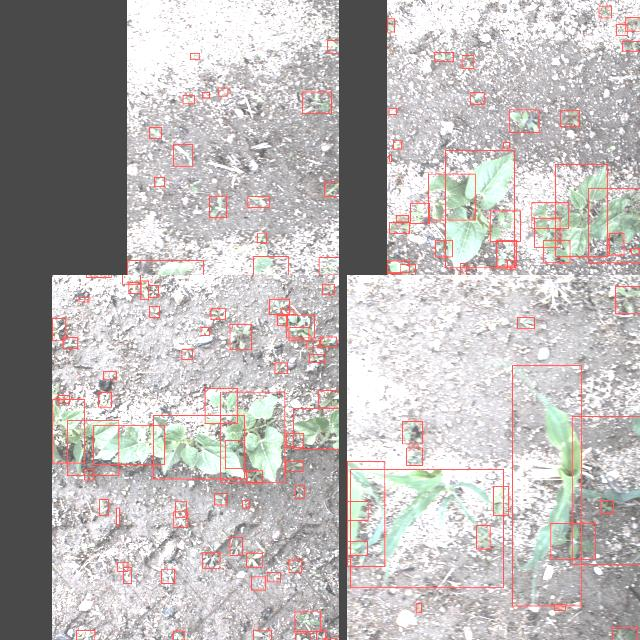crop: (350, 469, 502, 587), (512, 365, 582, 605), (571, 416, 640, 564), (444, 150, 514, 266), (152, 414, 244, 478), (220, 391, 284, 481), (554, 164, 608, 256), (346, 460, 384, 566), (587, 188, 640, 262), (92, 424, 164, 464), (66, 420, 118, 474), (428, 173, 474, 219), (51, 398, 83, 462), (292, 407, 339, 448), (126, 259, 202, 275), (532, 202, 568, 228), (252, 255, 287, 275)
weed: (550, 523, 596, 559), (204, 388, 236, 422), (489, 210, 519, 240), (533, 218, 559, 246), (508, 108, 538, 132), (615, 285, 640, 313), (286, 314, 314, 338), (301, 91, 331, 113), (543, 240, 569, 262), (229, 323, 251, 349), (224, 440, 243, 468), (496, 240, 516, 266), (294, 611, 320, 631), (401, 421, 421, 444), (492, 486, 508, 514), (172, 143, 192, 165), (347, 500, 368, 520), (409, 202, 429, 222), (208, 195, 226, 217), (318, 256, 339, 274), (318, 390, 339, 407), (608, 232, 624, 254), (476, 524, 490, 548), (611, 627, 636, 640), (269, 298, 289, 314), (51, 317, 65, 339), (434, 240, 452, 256), (560, 109, 578, 125), (201, 552, 219, 568), (406, 447, 422, 465), (346, 540, 366, 554), (386, 260, 408, 272), (288, 326, 308, 339), (285, 433, 303, 447), (324, 180, 339, 195), (246, 552, 262, 566), (173, 511, 187, 527), (248, 196, 268, 207), (230, 537, 242, 555), (516, 316, 534, 328), (625, 17, 640, 31), (388, 222, 408, 232), (76, 629, 94, 640), (288, 558, 302, 572), (251, 576, 265, 590), (246, 470, 262, 482), (160, 568, 173, 582), (399, 263, 414, 275), (622, 40, 640, 50), (285, 461, 303, 471), (253, 629, 271, 639), (433, 51, 452, 60), (461, 54, 473, 68), (470, 92, 484, 104), (598, 5, 612, 17), (98, 392, 110, 406), (174, 502, 186, 516), (599, 500, 613, 512), (320, 336, 336, 346), (210, 308, 226, 318), (140, 280, 148, 300), (327, 39, 339, 52), (62, 337, 76, 348), (148, 126, 160, 138), (99, 498, 108, 514), (214, 492, 226, 504), (121, 275, 139, 283), (266, 571, 280, 581), (294, 484, 304, 498), (274, 362, 288, 372), (309, 353, 325, 361), (122, 567, 130, 583), (172, 630, 184, 640), (180, 348, 192, 358), (322, 284, 334, 294), (147, 284, 157, 296), (128, 282, 140, 292), (394, 214, 408, 222), (386, 18, 394, 32), (102, 371, 116, 379), (306, 339, 320, 347), (616, 23, 626, 34), (294, 633, 309, 640), (154, 176, 164, 186), (256, 232, 266, 242), (83, 469, 93, 479), (316, 630, 326, 640), (277, 315, 287, 325), (149, 306, 159, 316), (182, 95, 194, 103), (218, 87, 228, 95), (506, 260, 516, 268), (200, 327, 210, 335), (58, 395, 68, 403), (117, 562, 127, 570), (459, 263, 465, 275), (392, 140, 401, 148), (281, 308, 293, 314), (189, 52, 199, 58), (630, 247, 640, 253), (78, 296, 88, 302), (554, 604, 564, 610), (85, 275, 110, 277), (388, 108, 396, 114), (242, 500, 248, 508), (115, 508, 118, 524), (416, 602, 420, 612), (503, 141, 509, 147), (386, 273, 399, 275), (202, 92, 208, 96), (388, 154, 390, 162)
